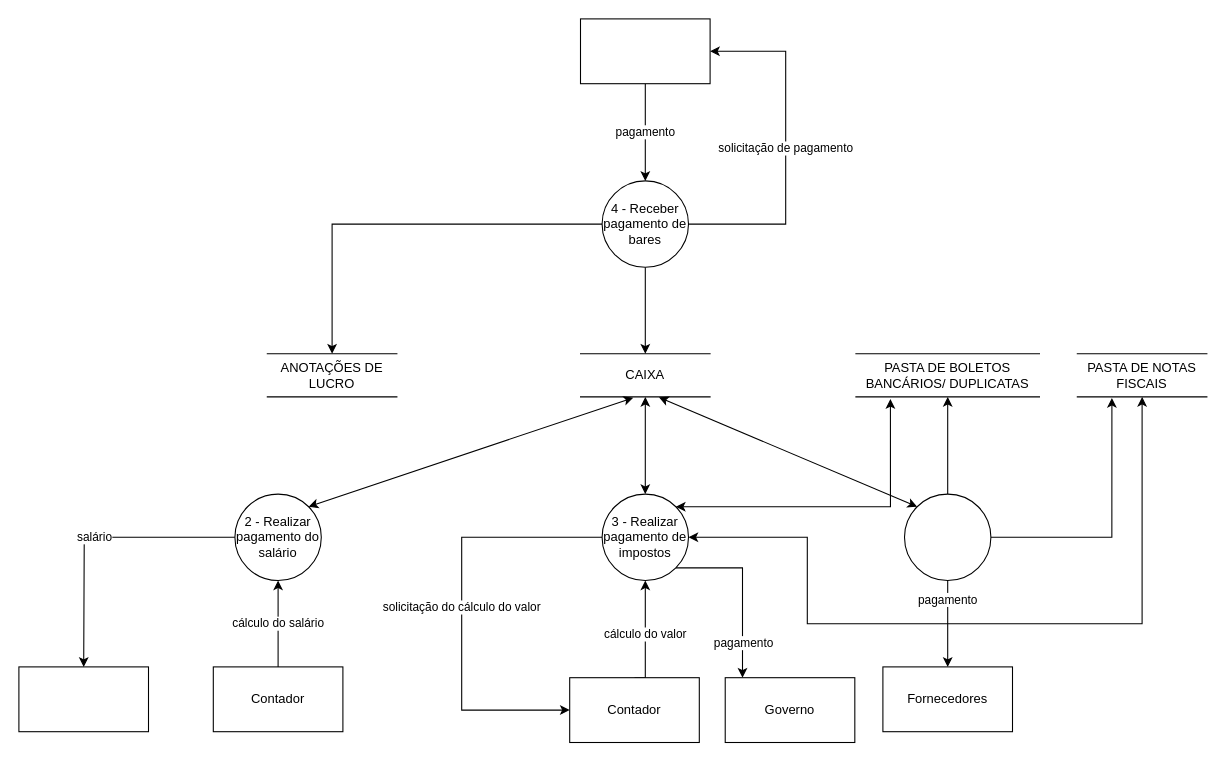
This 1226x761 diagram has some shape labels left out. The centre of each missing label's shape, as x and y in pixels:
"1 - Realizar pagamento dos fornecedores" goes at point (947, 536).
"Bares associados" goes at point (644, 51).
"Funcionários" goes at point (83, 699).
